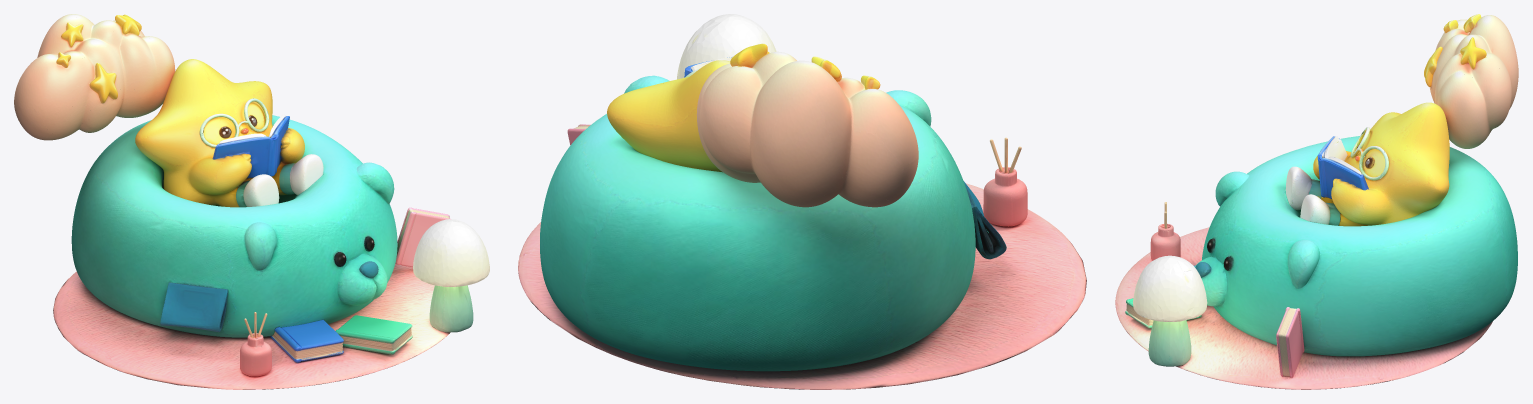
3 renders of one model, left to right at view 1: azimuth 30°, elevation 25°; view 2: azimuth 150°, elevation 25°; view 3: azimuth 270°, elevation 25°, orthographic. The views are drawn at different scales.
Parts seen in each view (by area): view 1: asset_002__mesh_01, asset_006__mesh_01, asset_001__mesh_01, asset_003__mesh_01, asset_004__mesh_01, asset_008__mesh_01, asset_007__mesh_01, asset_009__mesh_01, asset_005__mesh_01; view 2: asset_002__mesh_01, asset_003__mesh_01, asset_006__mesh_01, asset_001__mesh_01, asset_004__mesh_01, asset_005__mesh_01; view 3: asset_002__mesh_01, asset_001__mesh_01, asset_006__mesh_01, asset_003__mesh_01, asset_004__mesh_01, asset_009__mesh_01, asset_005__mesh_01.
Part boxes in pixels (<box>): asset_002__mesh_01: <box>71,115,397,337</box>; asset_006__mesh_01: <box>53,239,450,389</box>; asset_001__mesh_01: <box>135,59,323,207</box>; asset_003__mesh_01: <box>14,14,175,140</box>; asset_004__mesh_01: <box>413,219,489,332</box>; asset_008__mesh_01: <box>335,315,412,354</box>; asset_007__mesh_01: <box>270,319,343,362</box>; asset_009__mesh_01: <box>395,207,450,267</box>; asset_005__mesh_01: <box>240,312,271,376</box>; asset_002__mesh_01: <box>540,75,1006,371</box>; asset_003__mesh_01: <box>696,43,918,207</box>; asset_006__mesh_01: <box>518,183,1086,389</box>; asset_001__mesh_01: <box>607,57,732,172</box>; asset_004__mesh_01: <box>677,14,776,79</box>; asset_005__mesh_01: <box>983,137,1027,226</box>; asset_002__mesh_01: <box>1194,136,1517,356</box>; asset_001__mesh_01: <box>1285,102,1449,226</box>; asset_006__mesh_01: <box>1115,227,1492,389</box>; asset_003__mesh_01: <box>1424,14,1518,148</box>; asset_004__mesh_01: <box>1133,255,1207,366</box>; asset_009__mesh_01: <box>1276,307,1304,377</box>; asset_005__mesh_01: <box>1150,202,1180,260</box>.
Size of the model in its own units: 2.16 by 1.39 by 2.11.
Materials: 9 (9 with a texture image).
